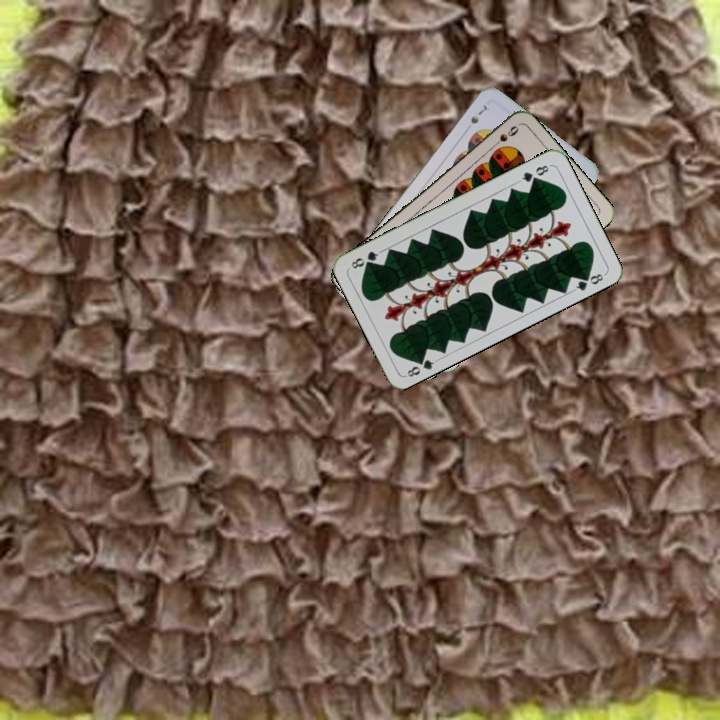G8: (401, 352, 440, 381), (515, 161, 553, 185)
S7: (467, 101, 490, 127)
S9: (487, 121, 521, 152)
